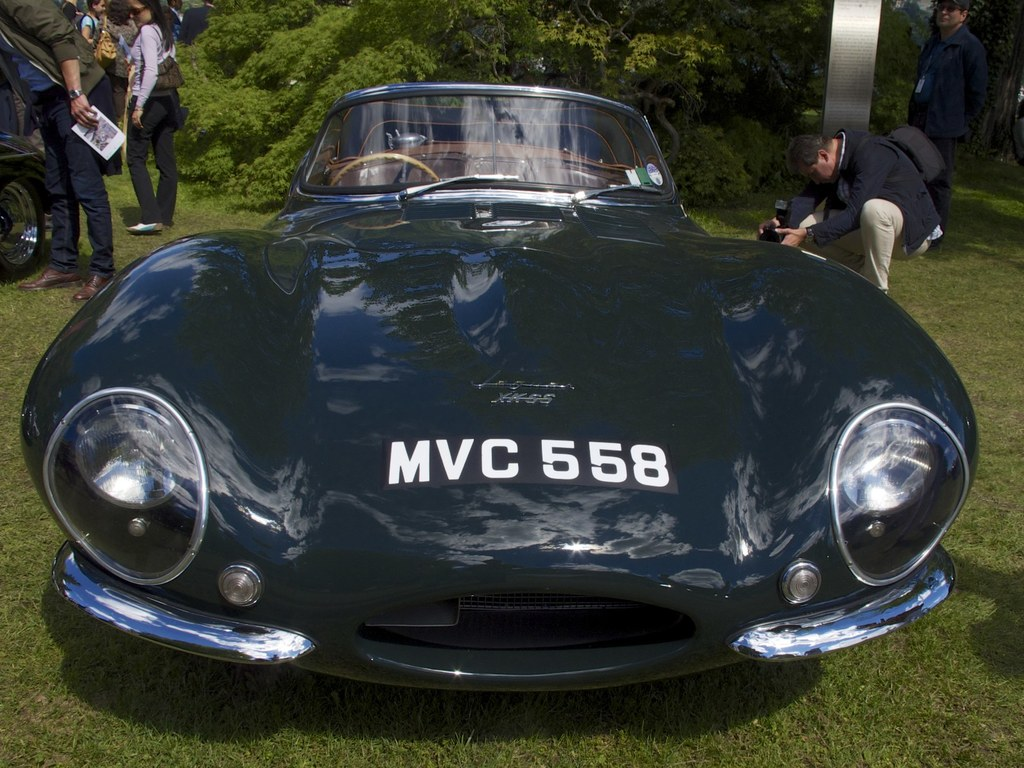Tree: (53, 0, 1024, 203)
